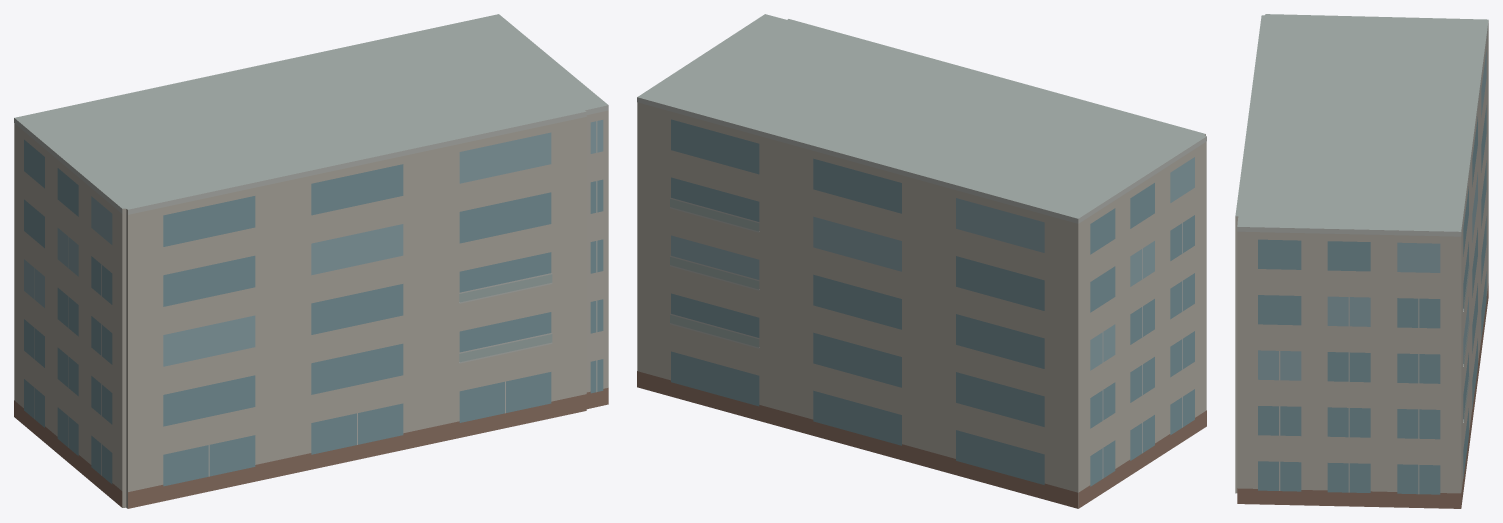
The model's file is survey-upis-32664697.glb.
3 renders of one model, left to right at view 1: azimuth 30°, elevation 25°; view 2: azimuth 150°, elevation 25°; view 3: azimuth 270°, elevation 25°, orthographic. The views are drawn at different scales.
Parts seen in each view (by area): view 1: survey-upis-32664697.tmp; view 2: survey-upis-32664697.tmp; view 3: survey-upis-32664697.tmp.
Boxes of the visible parts, left/top/right/bottom form: survey-upis-32664697.tmp: left=14, top=14, right=608, bottom=508; survey-upis-32664697.tmp: left=637, top=14, right=1206, bottom=508; survey-upis-32664697.tmp: left=1235, top=14, right=1488, bottom=508.
Bounding box in the file's own units: 23.79 × 14.1 × 11.69.
